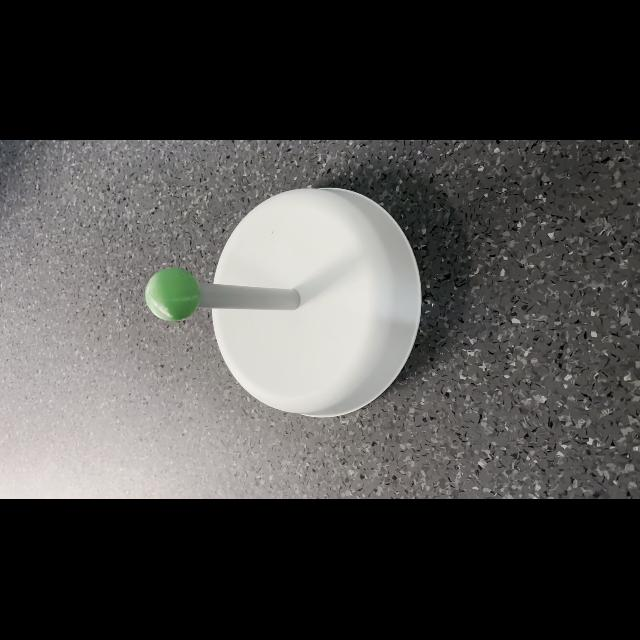objects: (138, 262, 206, 326)
